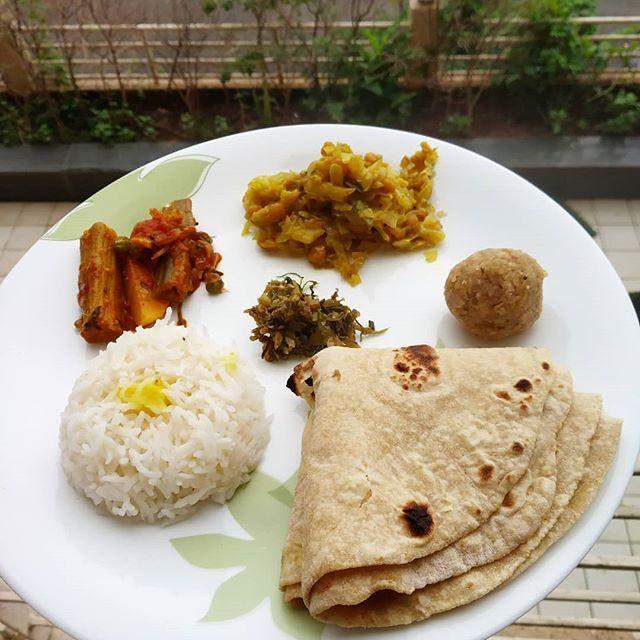Roti: (273, 341, 616, 610)
White Rice: (50, 321, 269, 521)
